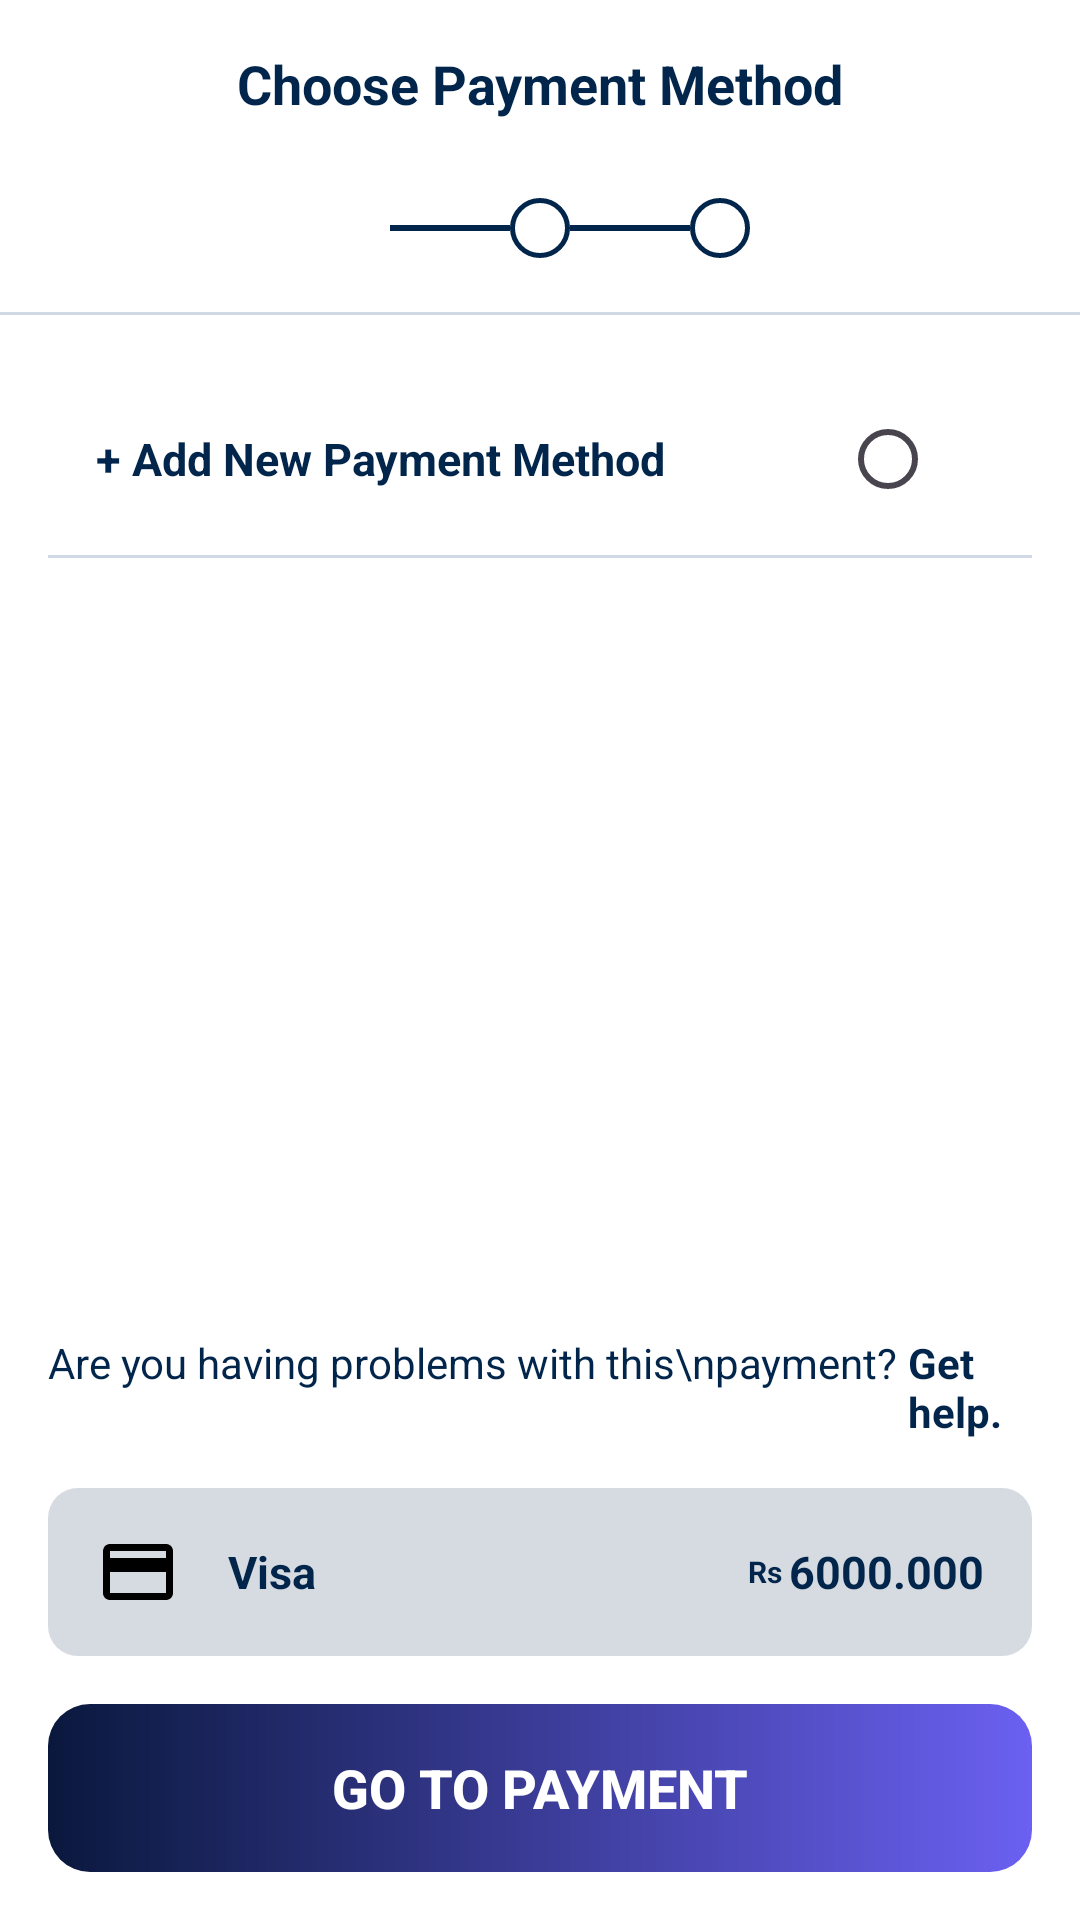

Named icons in this screenshot (1080*1920) and their centers, (x,y):
credit card: (138,1572)
step empty circle: (540,228), (720,228)
